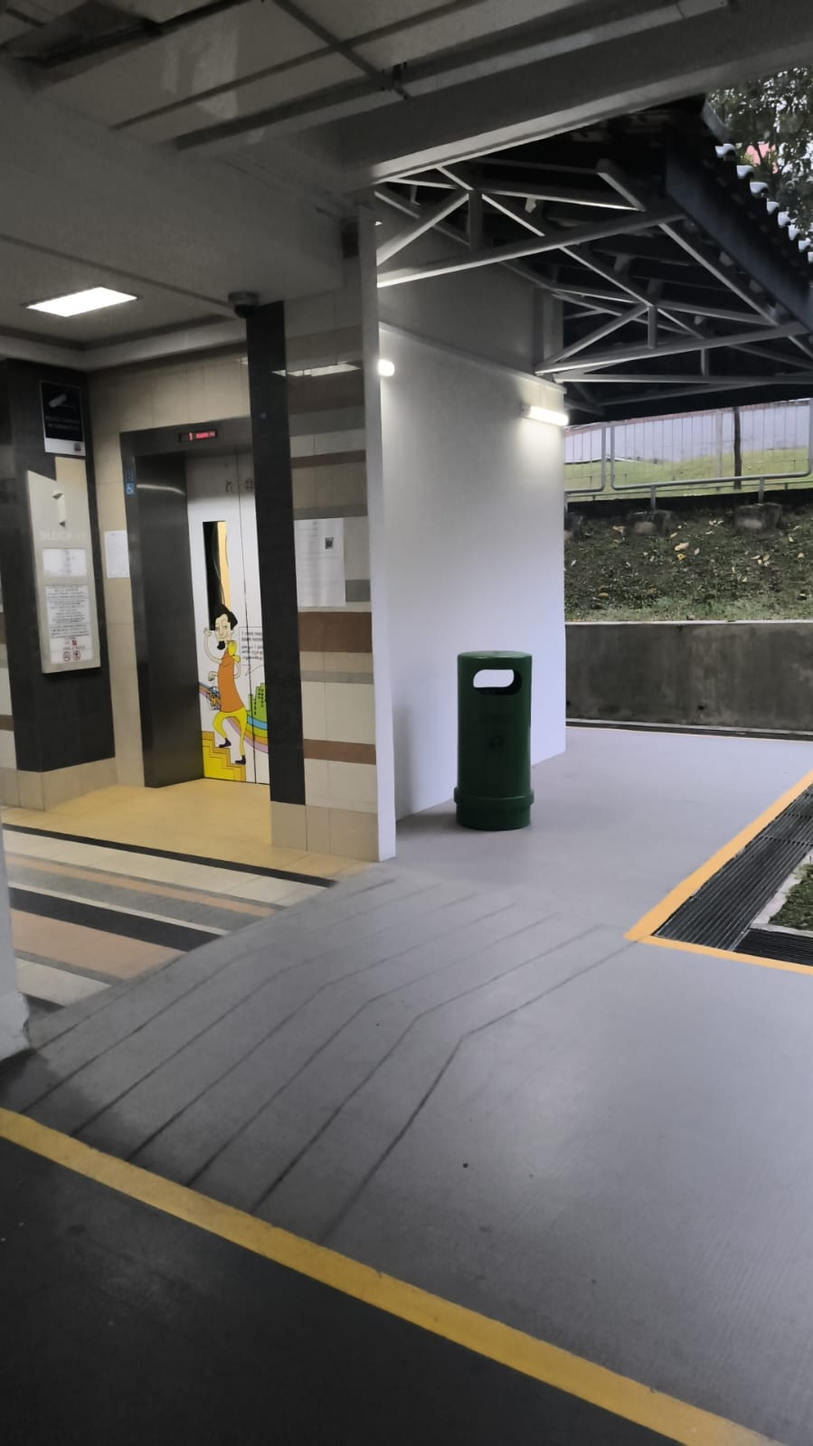bin_empty: (453, 652, 534, 830)
